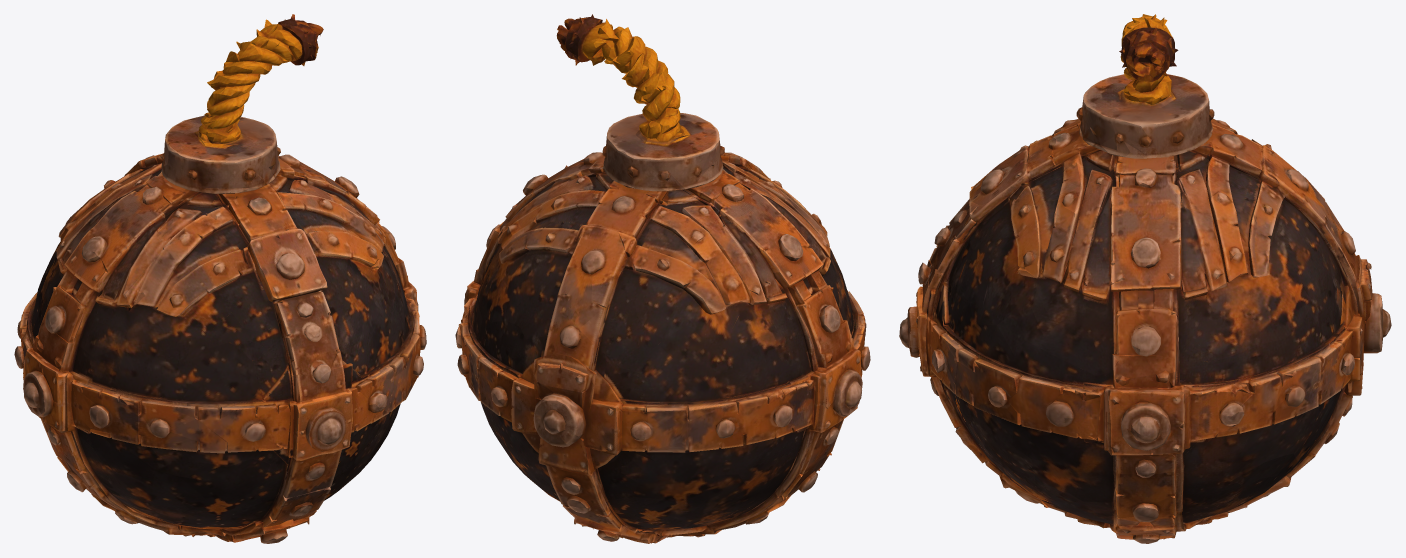
The model's file is bomb.glb.
3 views of the same model, side by side, from view 1: azimuth 30°, elevation 25°; view 2: azimuth 150°, elevation 25°; view 3: azimuth 270°, elevation 25° (orthographic). The views are drawn at different scales.
Parts seen in each view (by area): view 1: Mesh_0; view 2: Mesh_0; view 3: Mesh_0.
Boxes of the visible parts, x1,y1,x2,y2 form: Mesh_0: (14,14,426,543); Mesh_0: (455,14,870,543); Mesh_0: (899,14,1391,543).
Size of the model in its own units: 1.55 by 1.9 by 1.55.
Materials: 1 (1 with a texture image).
